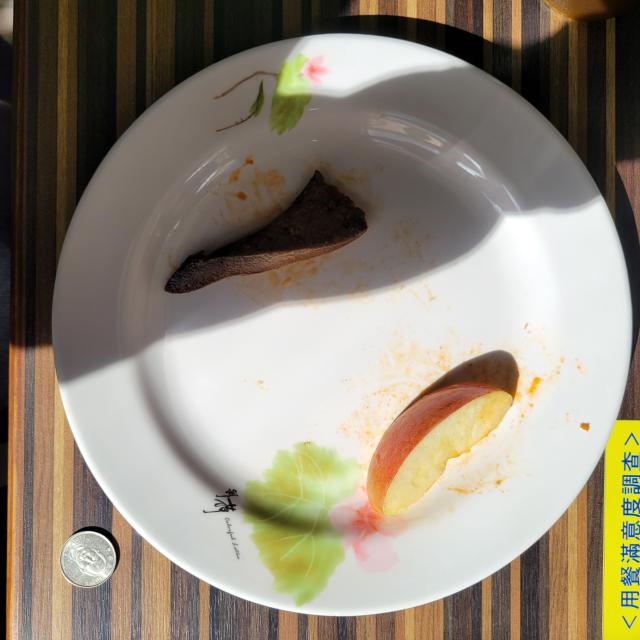apple -sliced-: (366, 382, 512, 516)
coin: (60, 530, 116, 588)
pig liver: (165, 170, 368, 294)
